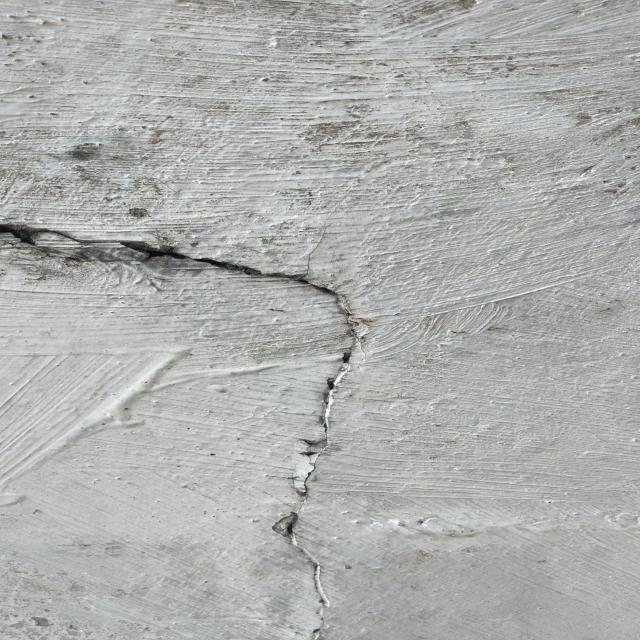Crack: (7, 219, 367, 640)
